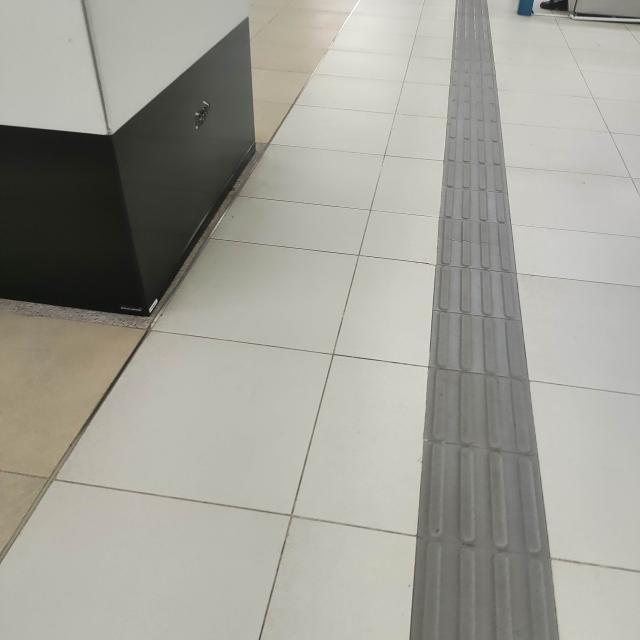lurus: (415, 30, 547, 640)
